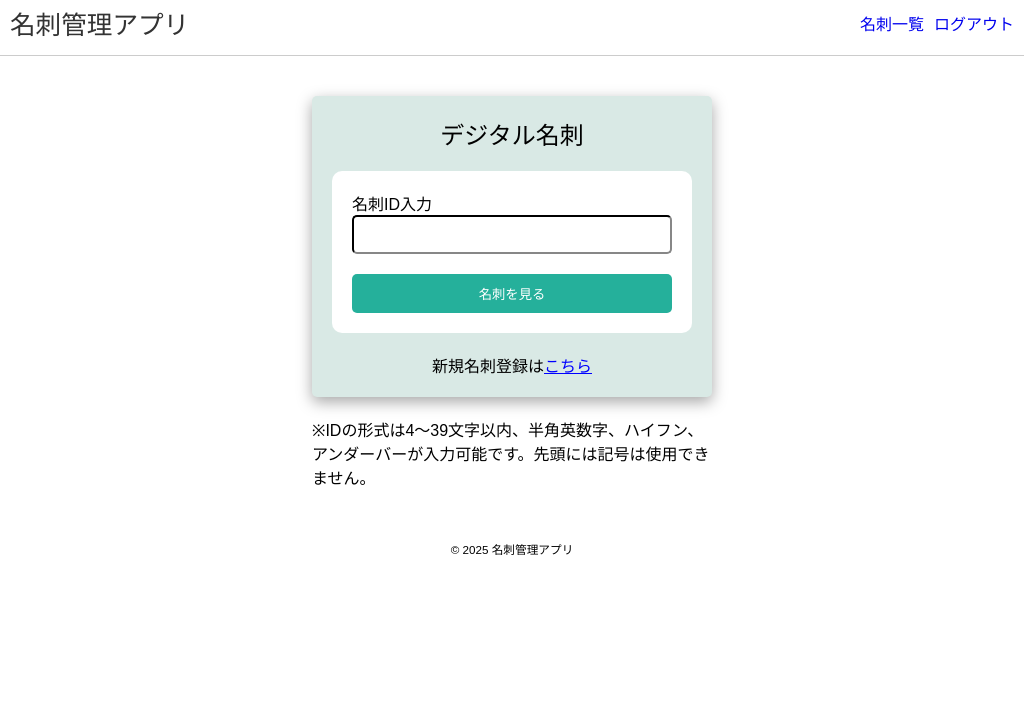
Scenario: Appコンポーネントの動作確認 › 名刺登録ページのテスト › IDがないときにエラーメッセージがでる
The image size is (1024, 723).
Click the link with test id "register": point(568, 366) [544,358,592,375]
(page scrolled)
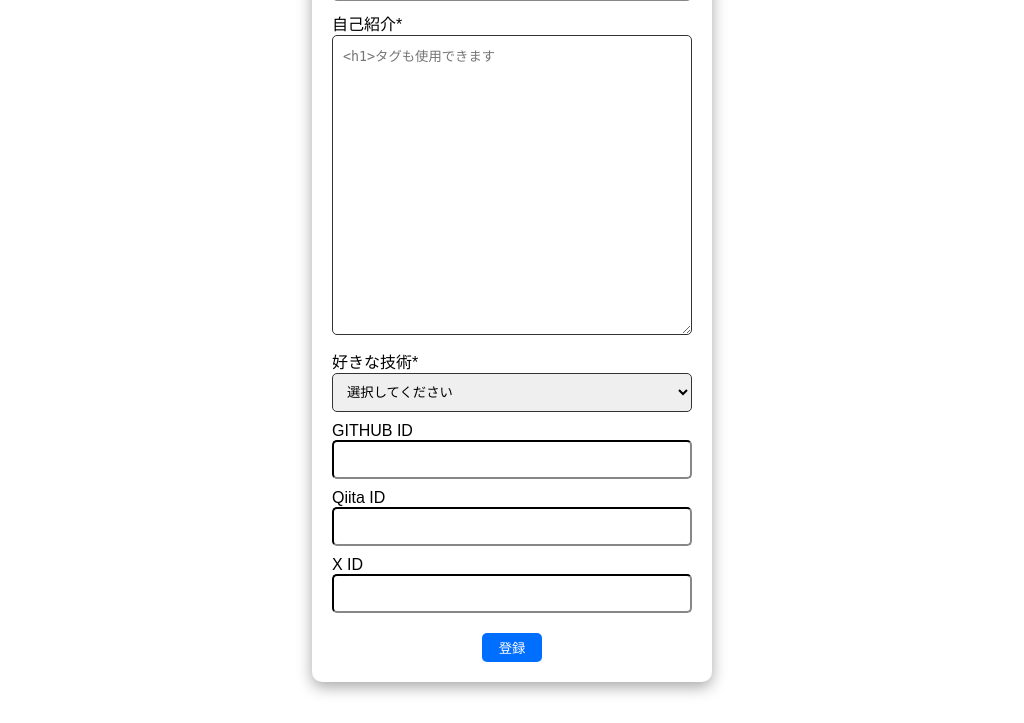
Click the button with test id "register": point(512, 648) [482,633,542,662]
(page scrolled)
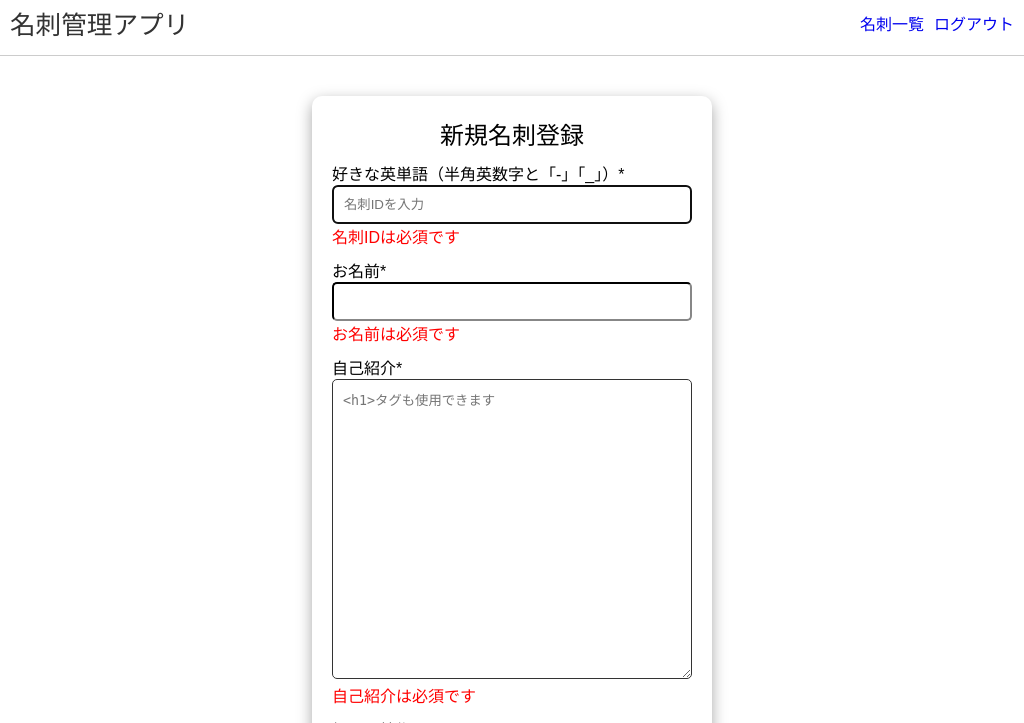
Now the text with test id "error-card-id" reads "名刺IDは必須です", box [332,229,460,246]
Now the text with test id "error-name" reads "お名前は必須です", box [332,326,460,343]
Now the text with test id "error-description" reads "自己紹介は必須です", box [332,688,476,705]
